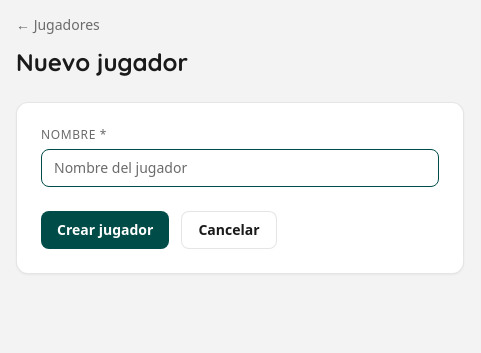
Scenario: PlayerNew › muestra el error de la API si create() rechaza la promesa
In the field with placeholder "Nombre del jugador": (240, 168) x1=41 y1=149 x2=439 y2=187, type "Pepin"
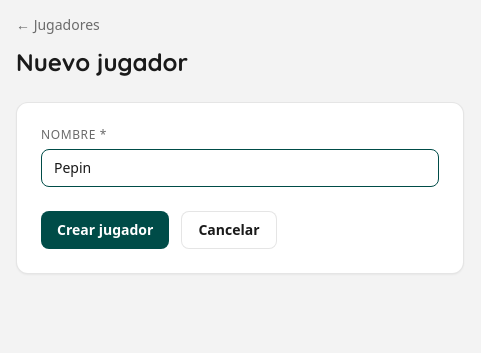
Click the button "Crear jugador": (105, 230) x1=41 y1=211 x2=169 y2=249
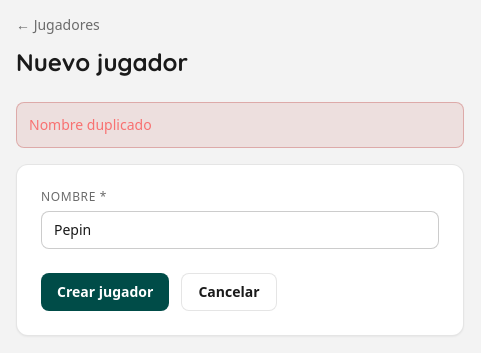
Expected: the text "Nombre duplicado" is shown, x1=16 y1=102 x2=464 y2=148
